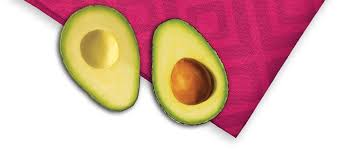aguacate: (53, 3, 143, 117)
